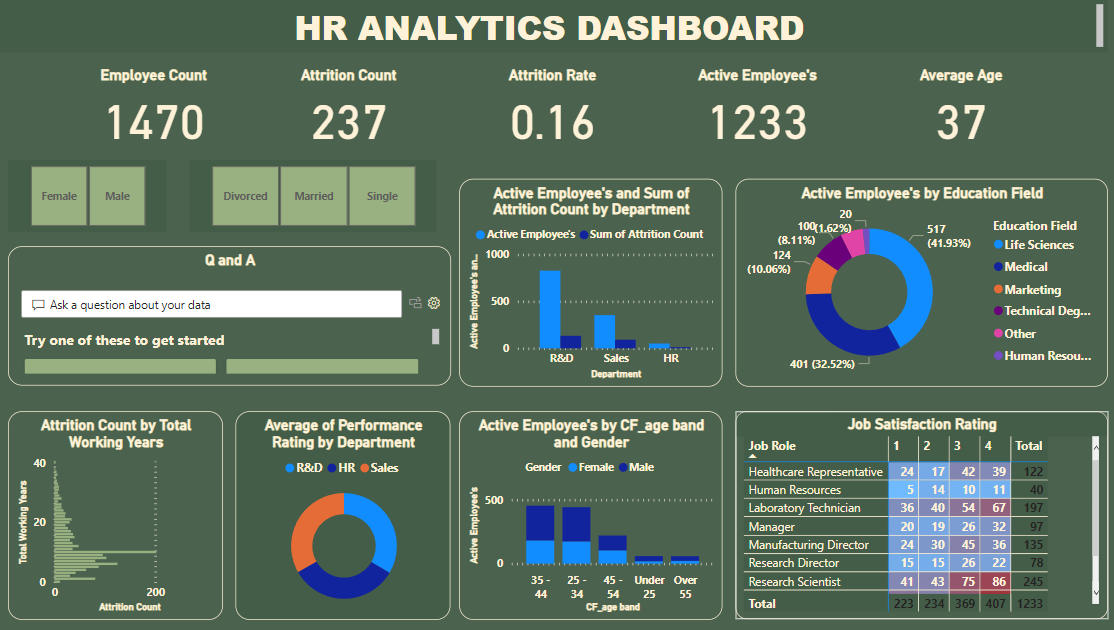

The dashboard page shown, as its layout file describes it:
{"tool":"powerbi","page":{"name":"Page 1","canvas":[1280,720],"ordinal":0},"visuals":[{"type":"card","title":"Employee Count","fields":{"Values":["Sum(HR data.Employee Count)"]},"box":[96.1,75.5,164.7,94.7],"z":0,"group":"g1"},{"type":"card","title":"Attrition Count","fields":{"Values":["Sum(HR data.Attrition Count)"]},"box":[318.9,76,164.7,94.7],"z":1000,"group":"g1"},{"type":"card","title":"Average Age","fields":{"Values":["Avg(HR data.Age)"]},"box":[1018.8,76,164.7,94.7],"z":2000,"group":"g1"},{"type":"card","title":"Active Employee''s","fields":{"Values":["HR data.Active Employee's"]},"box":[785.5,76,164.7,94.7],"z":3000,"group":"g1"},{"type":"card","title":"Attrition Rate","fields":{"Values":["HR data.Attrition Rate"]},"box":[552.2,76,164.7,94.7],"z":4000,"group":"g1"},{"type":"clusteredColumnChart","fields":{"Category":["HR data.Department"],"Y":["HR data.Active Employee's","Sum(HR data.Attrition Count)"]},"box":[526.9,204.5,300.5,237.4],"z":5000},{"type":"donutChart","fields":{"Y":["HR data.Active Employee's"],"Category":["HR data.Education Field"]},"box":[842.5,204.5,425.4,237.4],"z":6000},{"type":"columnChart","fields":{"Category":["HR data.CF_age band"],"Y":["HR data.Active Employee's"],"Series":["HR data.Gender"]},"box":[526.9,470.7,300.5,238.8],"z":7000},{"type":"pivotTable","title":"Job Satisfaction Rating","fields":{"Rows":["HR data.Job Role"],"Values":["HR data.Active Employee's"],"Columns":["HR data.Job Satisfaction"]},"box":[842.5,470.7,425.4,237.4],"z":8000},{"type":"donutChart","fields":{"Y":["Avg(HR data.Performance Rating)"],"Category":["HR data.Department"]},"box":[271.7,470.7,245.6,238.8],"z":9000},{"type":"qnaVisual","title":"Q and A","box":[11,281.3,506.3,159.2],"z":10000},{"type":"clusteredBarChart","title":" Attrition Count by Total Working Years","fields":{"Category":["HR data.Total Working Years"],"Y":["CountNonNull(HR data.Attrition Count)"]},"box":[11,470.7,245.6,238.8],"z":10001},{"type":"slicer","fields":{"Values":["HR data.Gender"]},"box":[11,182.5,181.1,82.3],"z":10002},{"type":"slicer","fields":{"Values":["HR data.Marital Status"]},"box":[218.2,182.5,282.7,82.3],"z":10003},{"type":"group","id":"g1","title":"Group 1","box":[96.1,75.5,1086.8,94.7],"z":10004},{"type":"textbox","box":[0,0,1267.9,60.4],"z":10005}]}

Visuals, with their boxes in screenshot pixels (x1, y1, x2, y2), scaled from the page's 1280x720 canvas onto the 1114x630 screenshot:
"Employee Count" card: locate(84, 66, 227, 149)
"Attrition Count" card: locate(278, 66, 421, 149)
"Average Age" card: locate(887, 66, 1030, 149)
"Active Employee''s" card: locate(684, 66, 827, 149)
"Attrition Rate" card: locate(481, 66, 624, 149)
clusteredColumnChart - HR data.Department x HR data.Active Employee's: locate(459, 179, 720, 387)
donutChart - HR data.Active Employee's x HR data.Education Field: locate(733, 179, 1103, 387)
columnChart - HR data.CF_age band x HR data.Active Employee's: locate(459, 412, 720, 621)
"Job Satisfaction Rating" pivotTable: locate(733, 412, 1103, 620)
donutChart - Avg(HR data.Performance Rating) x HR data.Department: locate(236, 412, 450, 621)
"Q and A" qnaVisual: locate(10, 246, 450, 385)
" Attrition Count by Total Working Years" clusteredBarChart: locate(10, 412, 223, 621)
slicer - HR data.Gender: locate(10, 160, 167, 232)
slicer - HR data.Marital Status: locate(190, 160, 436, 232)
"Group 1" group: locate(84, 66, 1029, 149)
textbox: locate(0, 0, 1103, 53)
